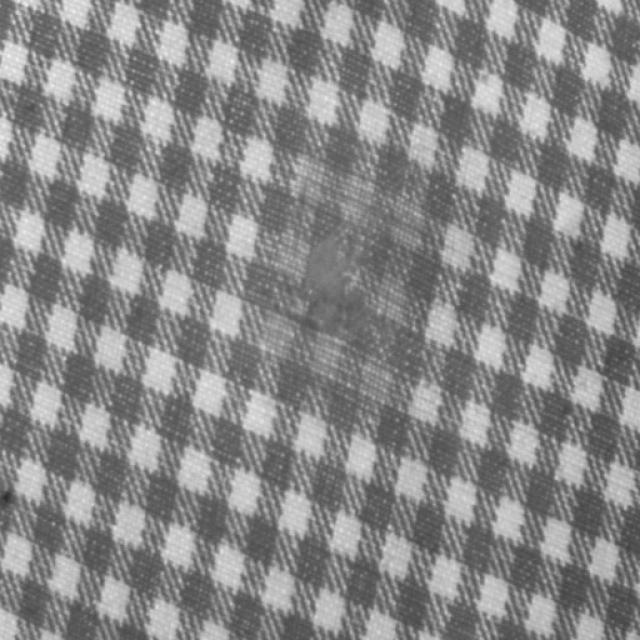Stain-Defect: (266, 158, 424, 410)
